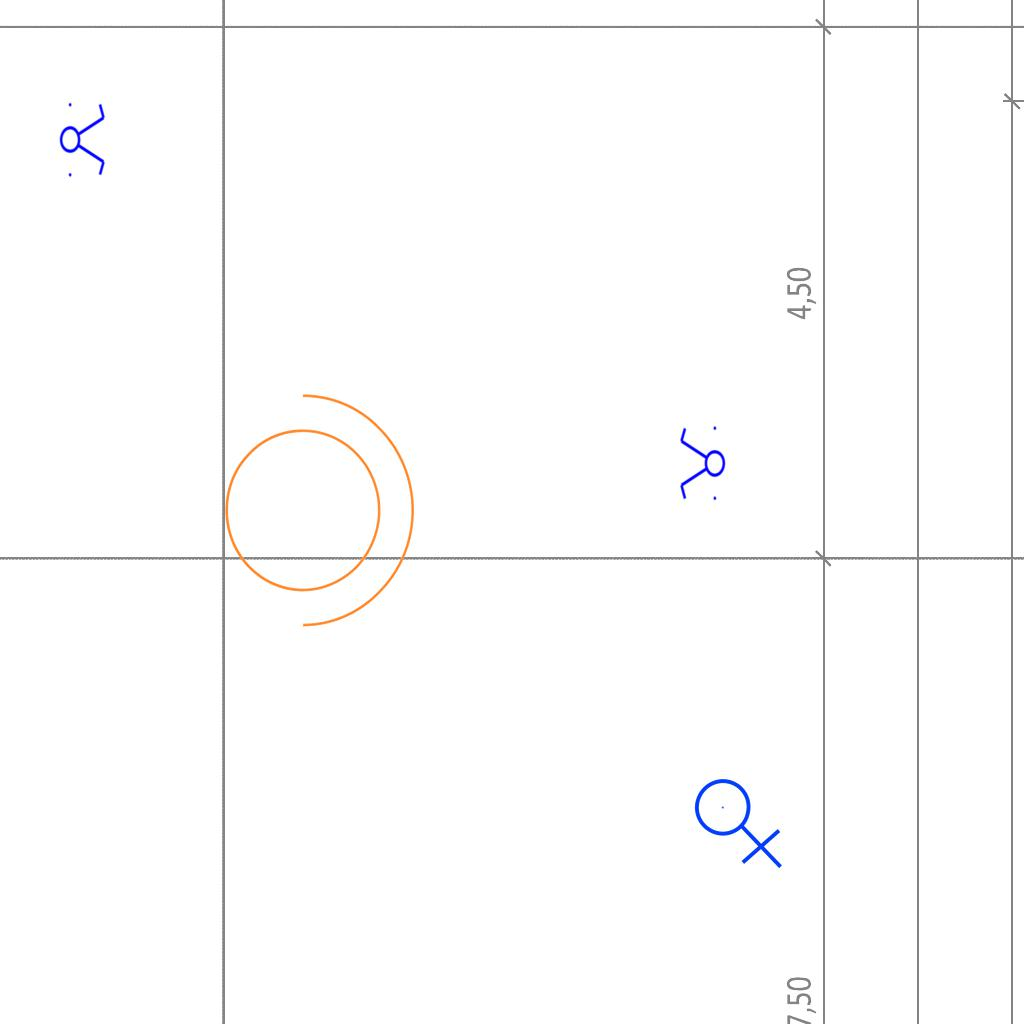Elektroanschluss_allgemein_230V_Geraeteanschlussdose_230V: (693, 770, 787, 869)
Scheinwerfer_fuer_Alarmbeleuchtung: (200, 372, 425, 636)
Serienschalter: (678, 422, 726, 506), (59, 97, 107, 181)
